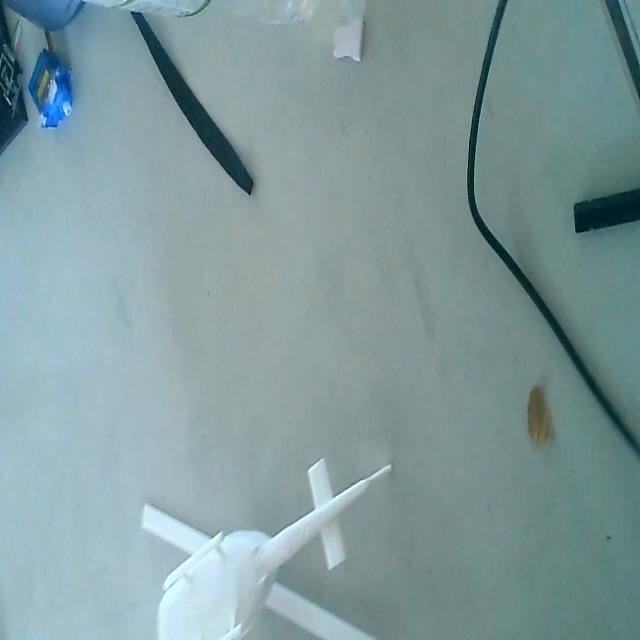Helicopter: (137, 453, 395, 640)
